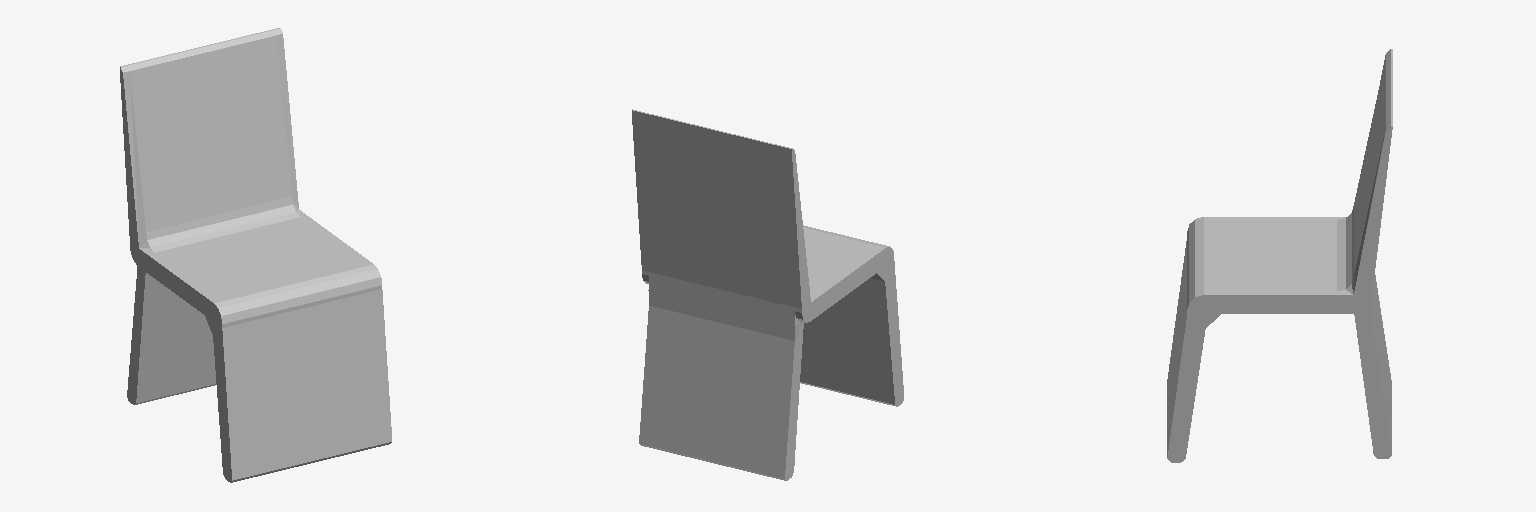
File: Chair.obj
3 renders of one model, left to right at view 1: azimuth 30°, elevation 25°; view 2: azimuth 150°, elevation 25°; view 3: azimuth 270°, elevation 25°, orthographic.
Visible parts, largest first — view 1: Cube; view 2: Cube; view 3: Cube.
Part boxes in pixels (x1,y1,x2,y2): Cube: (120, 28, 391, 482); Cube: (632, 109, 903, 480); Cube: (1167, 49, 1392, 462).
Bounding box in the file's own units: 0.45 × 0.9 × 0.5488.